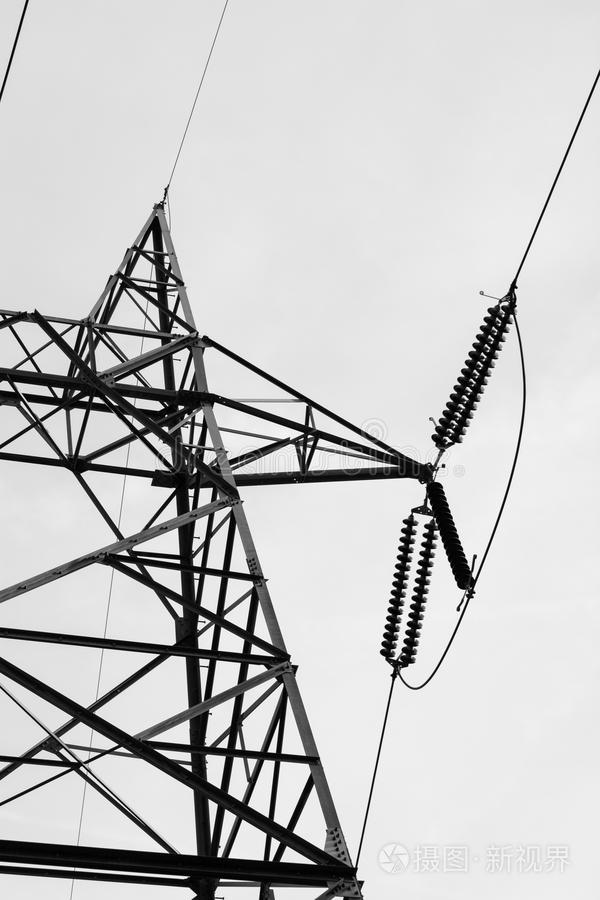insulator: (433, 303, 511, 444), (381, 521, 434, 662), (429, 484, 477, 593)
